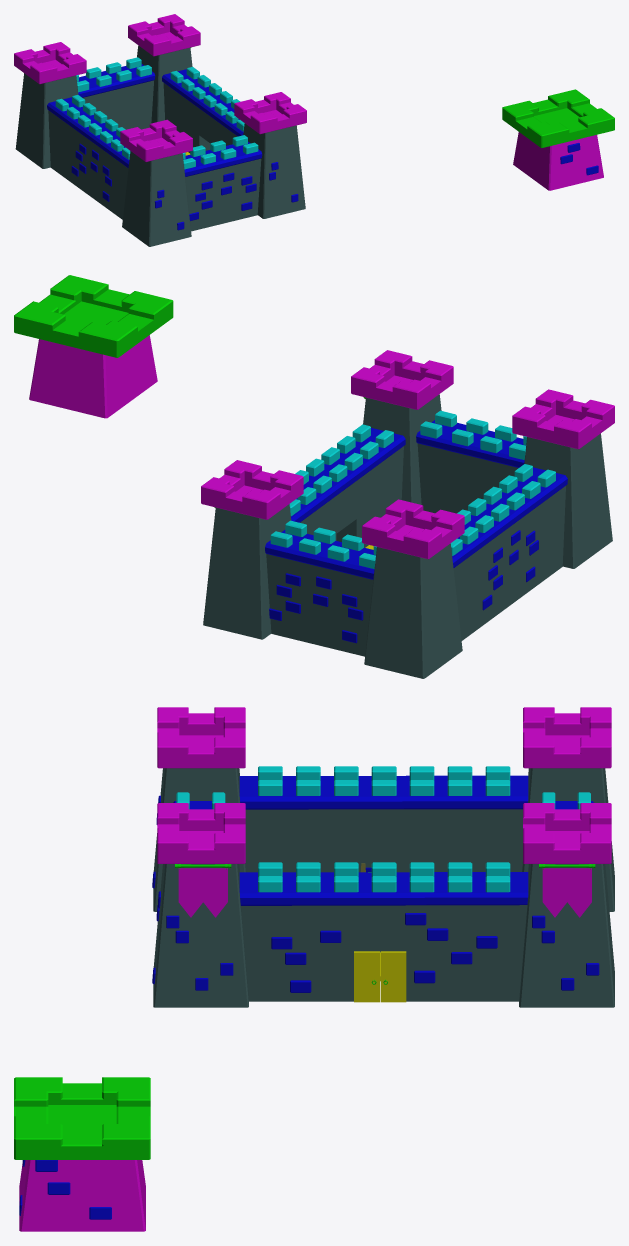
File: castillo-y-torrecita-f.fbx
The picture shows the model from 3 angles, top to bottom: view 1: azimuth 30°, elevation 25°; view 2: azimuth 150°, elevation 25°; view 3: azimuth 270°, elevation 25°; orthographic projection. The views are drawn at different scales.
Visible parts, largest first — view 1: todo:castilloCube.055, todo2:castilloCube.242, todo:castilloCube.266, todo:castilloCube.272, pasted__castilloCube.239, pasted__castilloCube.004, todo:castilloCube.010; view 2: todo:castilloCube.055, todo2:castilloCube.242, todo:castilloCube.266, pasted__castilloCube.239, todo:castilloCube.272, pasted__castilloCube.004, todo:castilloCube.010; view 3: todo:castilloCube.055, todo2:castilloCube.242, todo:castilloCube.272, todo:castilloCube.266, pasted__castilloCube.239, pasted__castilloCube.004, todo:castilloCube.010, todo:castillopCube815, todo:castilloCube.137, todo:castilloCube.273.
Part boxes in pixels (x1,y1,x2,y2): todo:castilloCube.055: (15,45,305,246); todo2:castilloCube.242: (14,14,306,161); todo:castilloCube.266: (55,57,258,169); todo:castilloCube.272: (47,64,262,176); pasted__castilloCube.239: (502,89,614,147); pasted__castilloCube.004: (513,132,603,190); todo:castilloCube.010: (71,143,298,230); todo:castilloCube.055: (203,394,612,678); todo2:castilloCube.242: (201,350,614,559); todo:castilloCube.266: (270,410,555,568); pasted__castilloCube.239: (14,275,173,357); todo:castilloCube.272: (265,420,567,579); pasted__castilloCube.004: (29,335,157,418); todo:castilloCube.010: (269,530,538,643); todo:castilloCube.055: (153,768,614,1007); todo2:castilloCube.242: (157,707,611,863); todo:castilloCube.272: (173,775,593,905); todo:castilloCube.266: (176,766,590,892); pasted__castilloCube.239: (14,1077,150,1159); pasted__castilloCube.004: (19,1160,145,1231); todo:castilloCube.010: (152,795,599,992); todo:castillopCube815: (178,868,591,917); todo:castilloCube.137: (354,951,406,1002); todo:castilloCube.273: (19,1160,111,1219).
Bounding box in the file's own units: 124 × 27.94 × 87.78.
